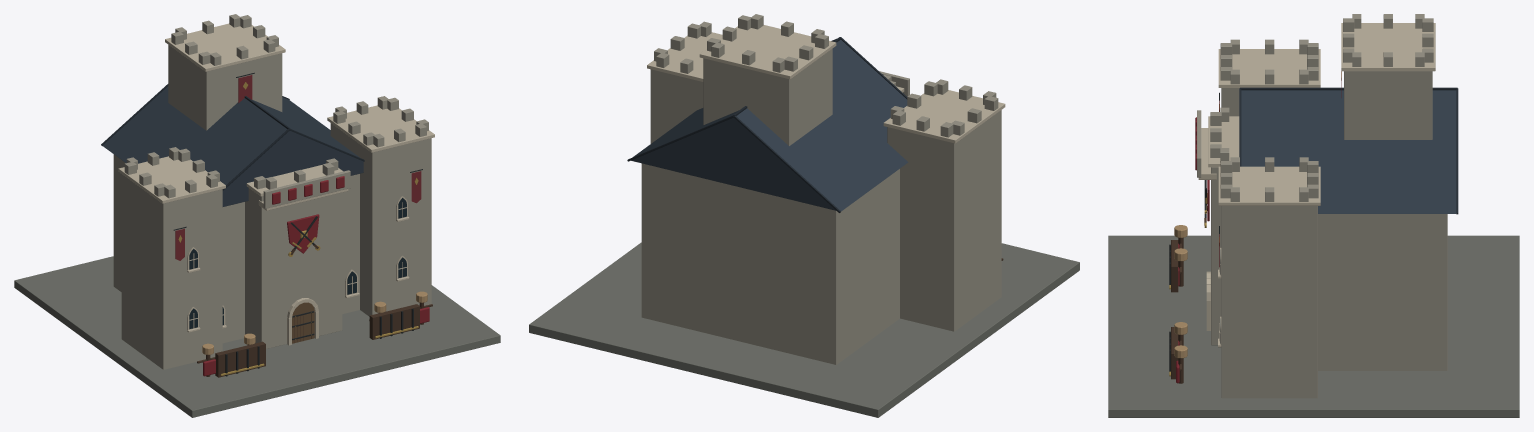
The model's file is WarriorAcademy.fbx.
3 views of the same model, side by side, from view 1: azimuth 30°, elevation 25°; view 2: azimuth 150°, elevation 25°; view 3: azimuth 270°, elevation 25° (orthographic). The views are drawn at different scales.
Parts seen in each view (by area): view 1: Warrior Academy foundation.001, Warrior Academy drill tower.002, Warrior Academy great hall roof.001, Warrior Academy gatehouse.001, Warrior Academy drill tower.003, Warrior Academy great hall.001, Warrior Academy high banner tower.001, Warrior Academy high tower crown coping.001, Warrior Academy tower crown coping.003, Warrior Academy tower crown coping.002, Warrior Academy balcony parapet.001, Warrior Academy weapon rack.002 (+4 smaller); view 2: Warrior Academy great hall.001, Warrior Academy foundation.001, Warrior Academy great hall roof.001, Warrior Academy drill tower.002, Warrior Academy high banner tower.001, Warrior Academy high tower crown coping.001, Warrior Academy tower crown coping.002, Warrior Academy drill tower.003, Warrior Academy tower crown coping.003; view 3: Warrior Academy foundation.001, Warrior Academy great hall.001, Warrior Academy drill tower.003, Warrior Academy great hall roof.001, Warrior Academy high banner tower.001, Warrior Academy high tower crown coping.001, Warrior Academy tower crown coping.003, Warrior Academy tower crown coping.002, Warrior Academy gatehouse.001, Warrior Academy gatehouse crown coping.001, Warrior Academy great hall roof ridge.001, Warrior Academy instructors balcony.001 (+1 smaller).
Boxes of the visible parts, left/top/right/bottom form: Warrior Academy foundation.001: left=14, top=256, right=500, bottom=417; Warrior Academy drill tower.002: left=121, top=174, right=222, bottom=369; Warrior Academy great hall roof.001: left=102, top=86, right=363, bottom=206; Warrior Academy gatehouse.001: left=245, top=188, right=342, bottom=348; Warrior Academy drill tower.003: left=330, top=123, right=431, bottom=316; Warrior Academy great hall.001: left=113, top=154, right=359, bottom=343; Warrior Academy high banner tower.001: left=168, top=45, right=282, bottom=130; Warrior Academy high tower crown coping.001: left=165, top=23, right=285, bottom=71; Warrior Academy tower crown coping.003: left=327, top=105, right=434, bottom=152; Warrior Academy tower crown coping.002: left=118, top=156, right=225, bottom=203; Warrior Academy balcony parapet.001: left=263, top=170, right=350, bottom=208; Warrior Academy weapon rack.002: left=215, top=341, right=265, bottom=377; Warrior Academy great hall.001: left=641, top=163, right=899, bottom=364; Warrior Academy foundation.001: left=529, top=242, right=1079, bottom=417; Warrior Academy great hall roof.001: left=631, top=40, right=908, bottom=211; Warrior Academy drill tower.002: left=887, top=110, right=1001, bottom=331; Warrior Academy high banner tower.001: left=703, top=49, right=832, bottom=145; Warrior Academy high tower crown coping.001: left=699, top=25, right=836, bottom=79; Warrior Academy tower crown coping.002: left=883, top=90, right=1005, bottom=143; Warrior Academy drill tower.003: left=650, top=69, right=703, bottom=143; Warrior Academy tower crown coping.003: left=647, top=32, right=722, bottom=81; Warrior Academy foundation.001: left=1108, top=235, right=1519, bottom=417; Warrior Academy great hall.001: left=1318, top=214, right=1447, bottom=370; Warrior Academy drill tower.003: left=1221, top=206, right=1317, bottom=398; Warrior Academy great hall roof.001: left=1241, top=90, right=1456, bottom=213; Warrior Academy high banner tower.001: left=1344, top=71, right=1432, bottom=139; Warrior Academy high tower crown coping.001: left=1341, top=23, right=1435, bottom=71; Warrior Academy tower crown coping.003: left=1218, top=166, right=1320, bottom=205; Warrior Academy tower crown coping.002: left=1218, top=49, right=1320, bottom=87; Warrior Academy gatehouse.001: left=1211, top=167, right=1221, bottom=345; Warrior Academy gatehouse crown coping.001: left=1208, top=116, right=1239, bottom=167; Warrior Academy great hall roof ridge.001: left=1240, top=87, right=1457, bottom=90; Warrior Academy instructors balcony.001: left=1198, top=128, right=1216, bottom=179.
Size of the model in its own units: 26 by 20.61 by 26.
